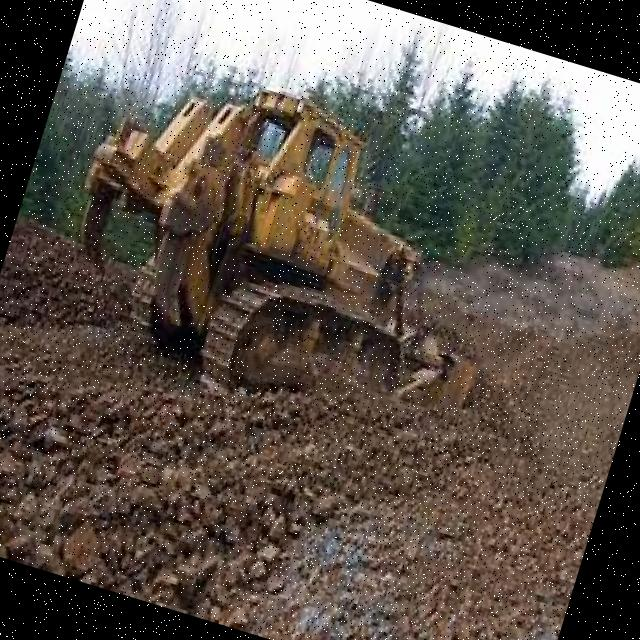Bulldozer: (19, 12, 602, 498)
